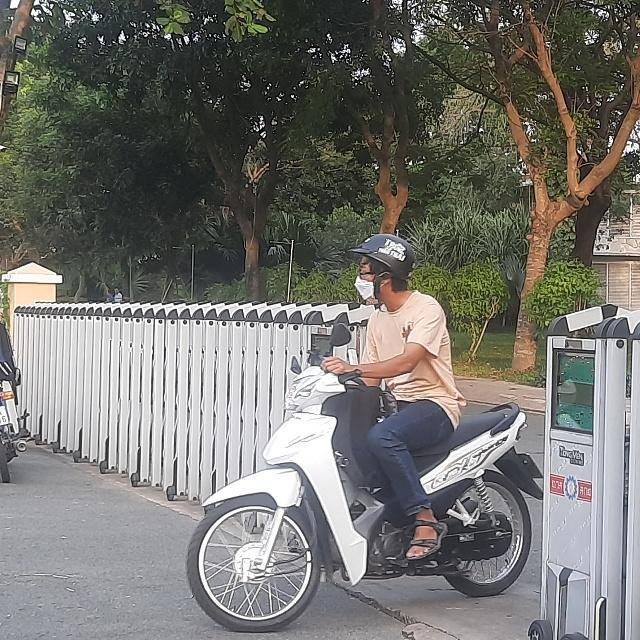Helmet: (348, 232, 420, 302)
